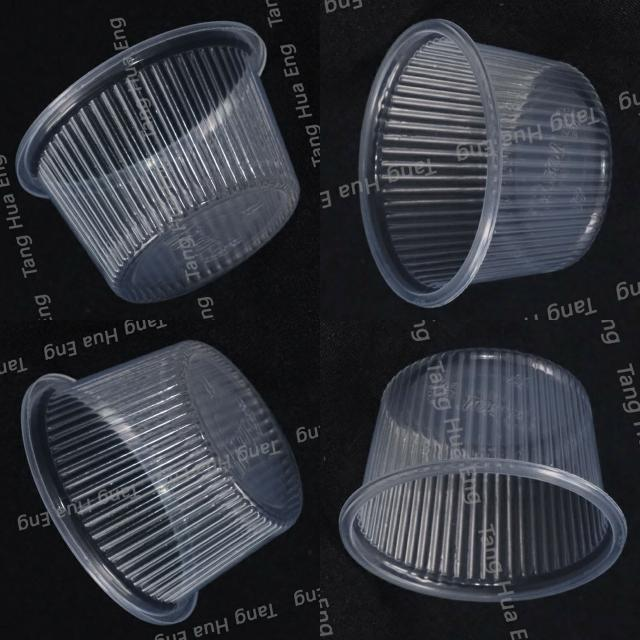Single-Use-Plastic: (21, 341, 302, 625), (16, 21, 299, 302), (339, 349, 626, 605), (359, 20, 611, 308)
